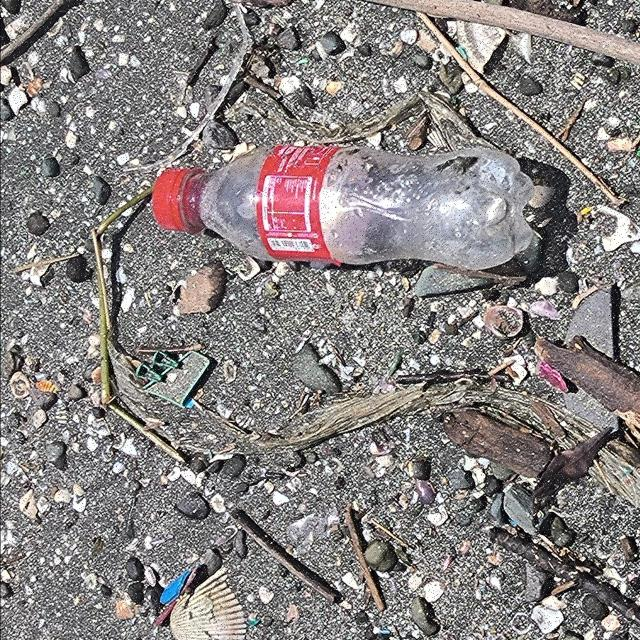plastic_waste: (151, 143, 537, 276)
